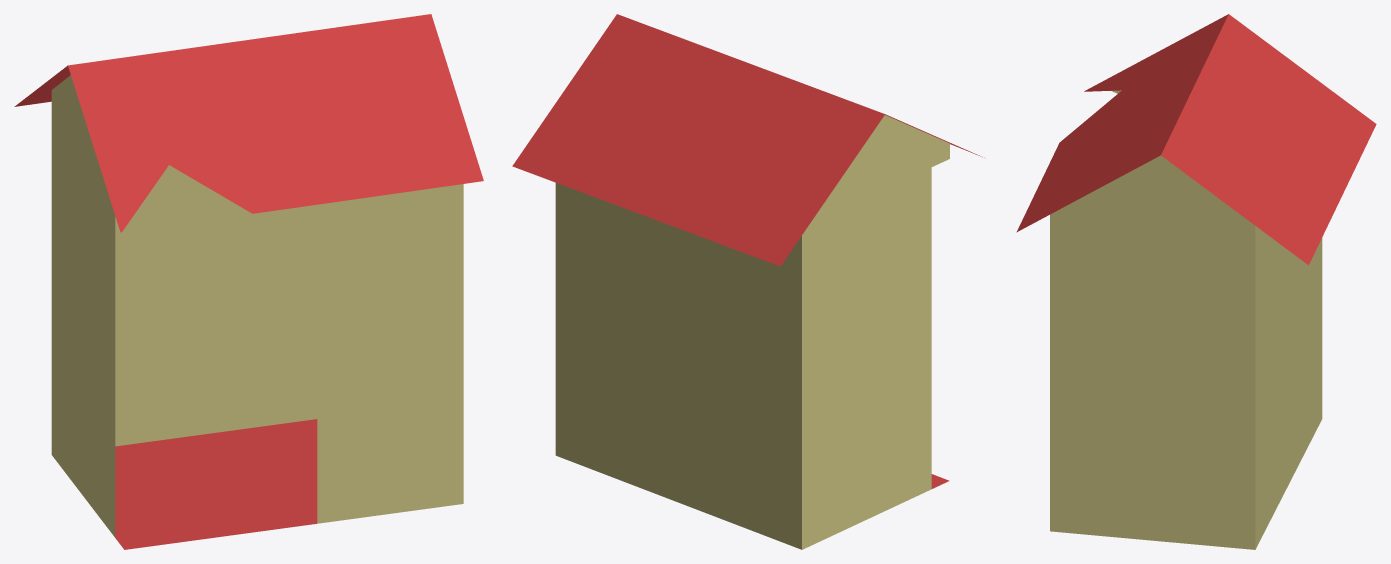
3 views of the same model, side by side, from view 1: azimuth 30°, elevation 25°; view 2: azimuth 150°, elevation 25°; view 3: azimuth 270°, elevation 25° (orthographic). The views are drawn at different scales.
Size of the model in its own units: 10.13 by 9.26 by 11.04.
